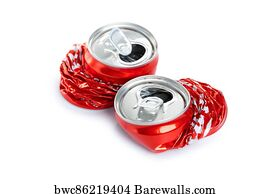can: (109, 72, 230, 156), (57, 20, 161, 111)
